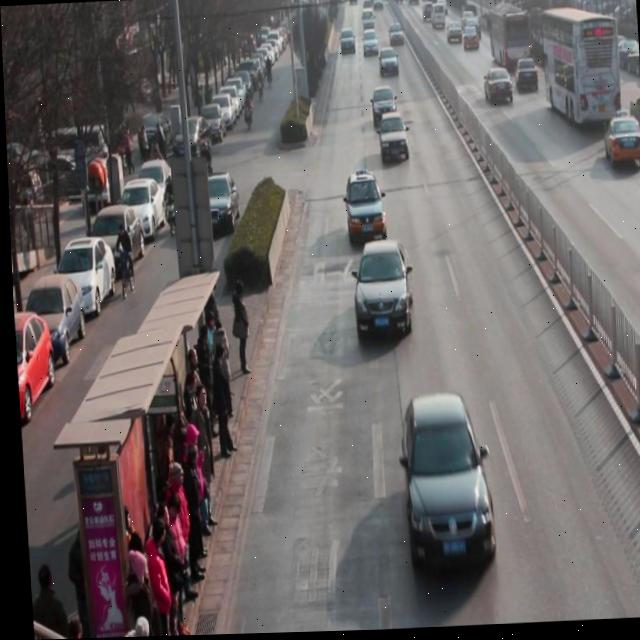car: (394, 394, 492, 573), (347, 238, 412, 340), (342, 172, 385, 243), (601, 118, 640, 174), (377, 112, 408, 163), (369, 88, 397, 131), (482, 70, 512, 107), (514, 59, 538, 96), (376, 48, 399, 78), (462, 26, 480, 52)
van: (541, 8, 621, 133), (486, 6, 529, 74)
